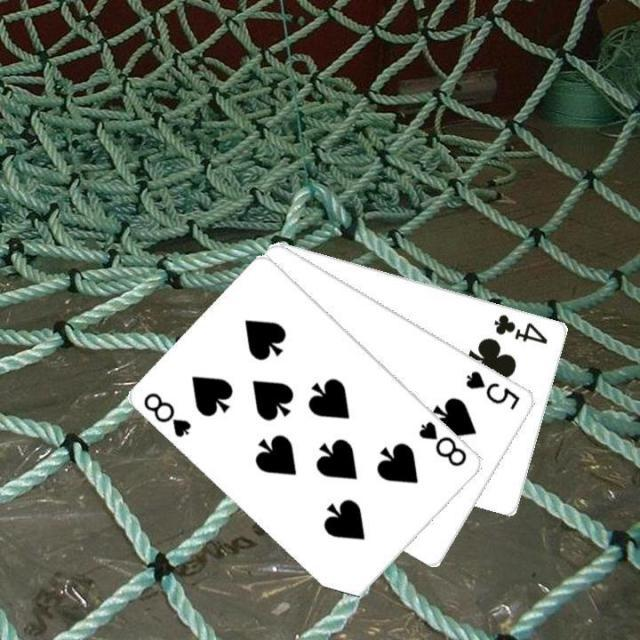4C: (491, 310, 551, 346)
5S: (462, 366, 522, 412)
8S: (140, 388, 195, 440), (415, 417, 469, 469)
